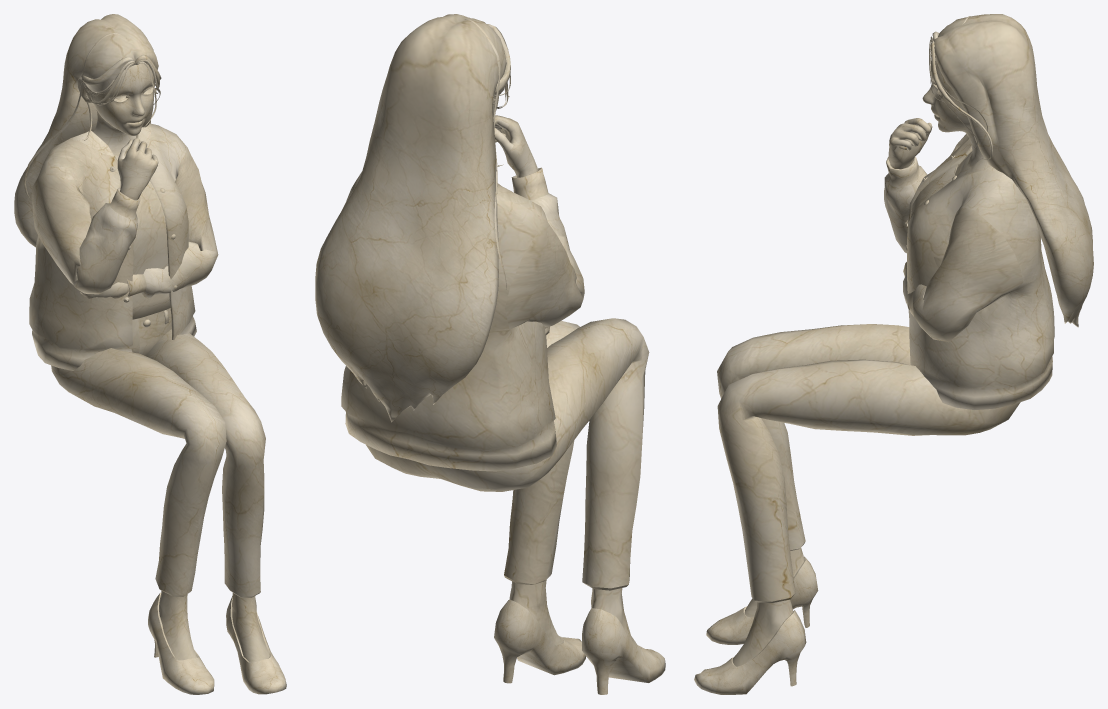
The model's file is Sample_Avatar_W_Sit_003.fbx.
3 renders of one model, left to right at view 1: azimuth 30°, elevation 25°; view 2: azimuth 150°, elevation 25°; view 3: azimuth 270°, elevation 25°, orthographic. The views are drawn at different scales.
Parts seen in each view (by area): view 1: Sample_Avatar_W_Sit_003; view 2: Sample_Avatar_W_Sit_003; view 3: Sample_Avatar_W_Sit_003.
Part boxes in pixels (left/top/right/bottom): Sample_Avatar_W_Sit_003: left=14, top=14, right=286, bottom=694; Sample_Avatar_W_Sit_003: left=315, top=14, right=665, bottom=694; Sample_Avatar_W_Sit_003: left=694, top=14, right=1093, bottom=694.
Size of the model in its own units: 0.3831 by 1.32 by 0.7351.
